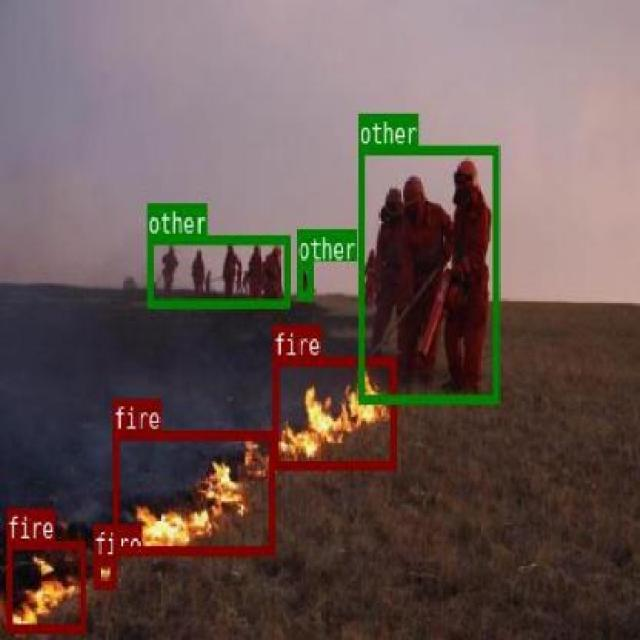Fire: (112, 430, 274, 555), (273, 356, 395, 467), (5, 540, 84, 631)
